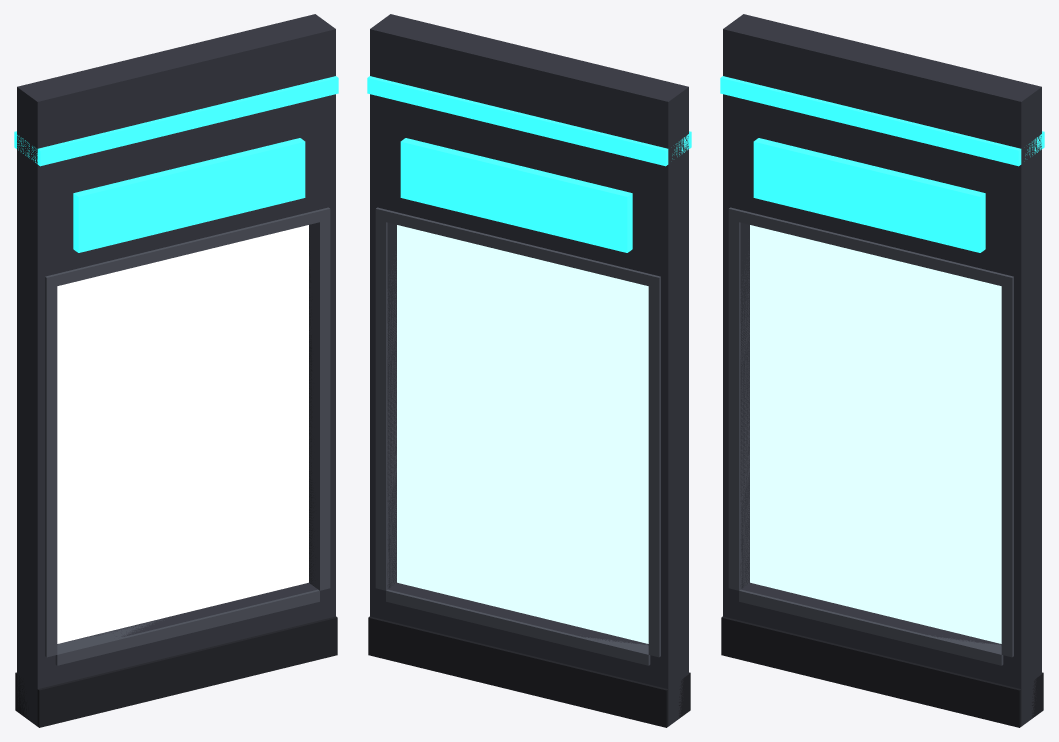
File: cyb-vitrine-ciano.gltf
3 views of the same model, side by side, from view 1: azimuth 30°, elevation 25°; view 2: azimuth 150°, elevation 25°; view 3: azimuth 330°, elevation 25° (orthographic).
Visible parts, largest first — view 1: cyb-vitrine-ciano; view 2: cyb-vitrine-ciano; view 3: cyb-vitrine-ciano.
Part boxes in pixels (x1,y1,x2,y2): cyb-vitrine-ciano: [14, 14, 338, 727]; cyb-vitrine-ciano: [367, 14, 691, 727]; cyb-vitrine-ciano: [720, 14, 1044, 727].
Bounding box in the file's own units: 1 × 2 × 0.18.
